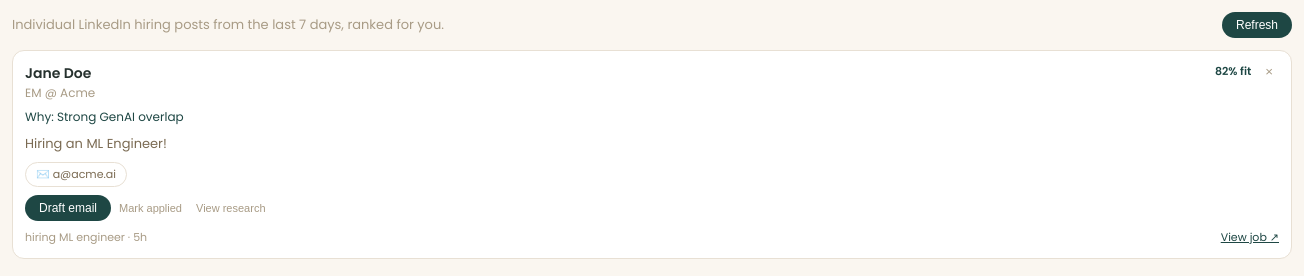
Test: status badge, mark/undo, and draft warning
Check: the button "Draft email" is shown, box [25,195,111,221]
Click the button "Mark applied" at {"x": 150, "y": 208}, box [119,202,182,214]
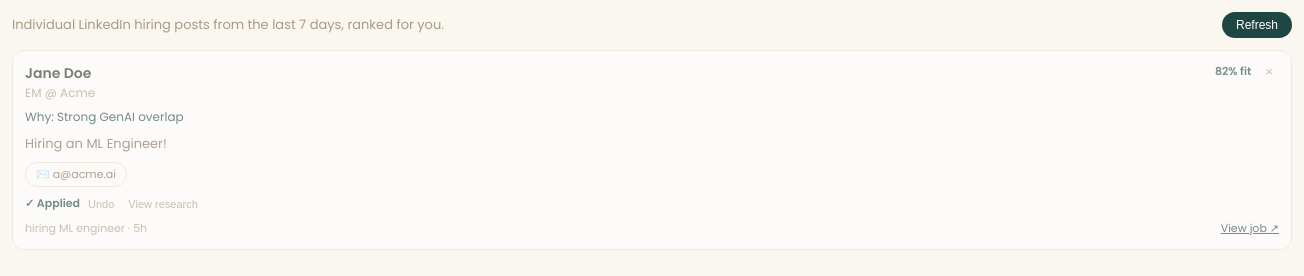
Check: the text "✓ Applied" is shown, box [25,195,80,212]
Check: the button "Draft email" is gone
Click the button "Undo" at {"x": 101, "y": 204}, box [88,198,114,210]
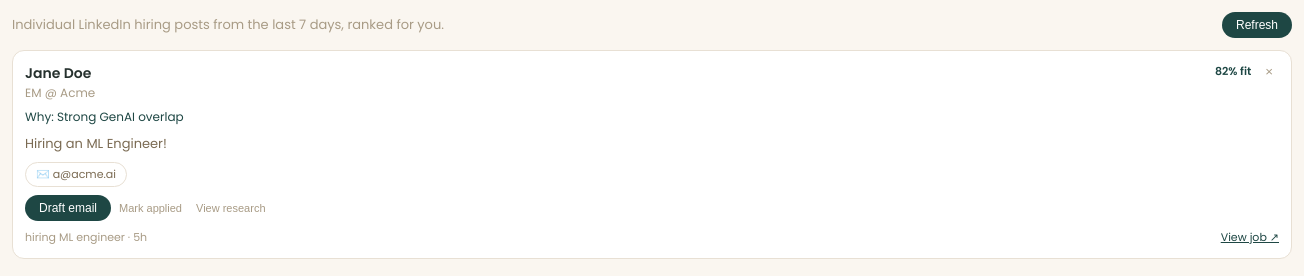
Check: the button "Draft email" is shown, box [25,195,111,221]
